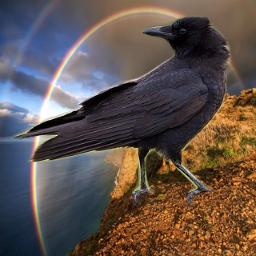Crow: (11, 15, 233, 206)
